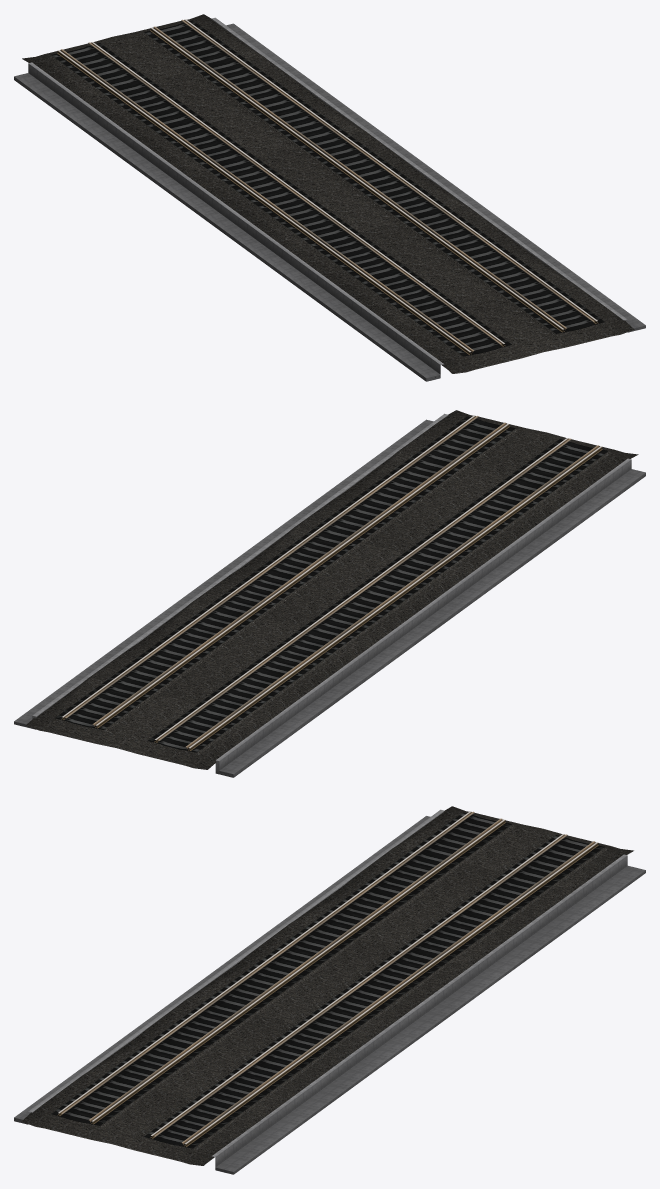
Rendered from KH_RAIL00_100.glb.
3 views of the same model, one above another, from view 1: azimuth 30°, elevation 25°; view 2: azimuth 150°, elevation 25°; view 3: azimuth 330°, elevation 25° (orthographic).
Parts seen in each view (by area): view 1: Jari_All, RG_R, RG_L; view 2: Jari_All, RG_R, RG_L; view 3: Jari_All, RG_L, RG_R.
Part boxes in pixels (x1=…): Jari_All: x1=14, y1=14, x2=645, y2=381; RG_R: x1=60, y1=26, x2=566, y2=352; RG_L: x1=88, y1=19, x2=594, y2=344; Jari_All: x1=14, y1=410, x2=645, y2=777; RG_R: x1=92, y1=422, x2=599, y2=749; RG_L: x1=64, y1=416, x2=571, y2=741; Jari_All: x1=14, y1=806, x2=645, y2=1174; RG_L: x1=89, y1=818, x2=595, y2=1144; RG_R: x1=61, y1=811, x2=567, y2=1136.
Size of the model in its own units: 30.76 by 2.55 by 105.
Materials: 7 (6 with a texture image).
